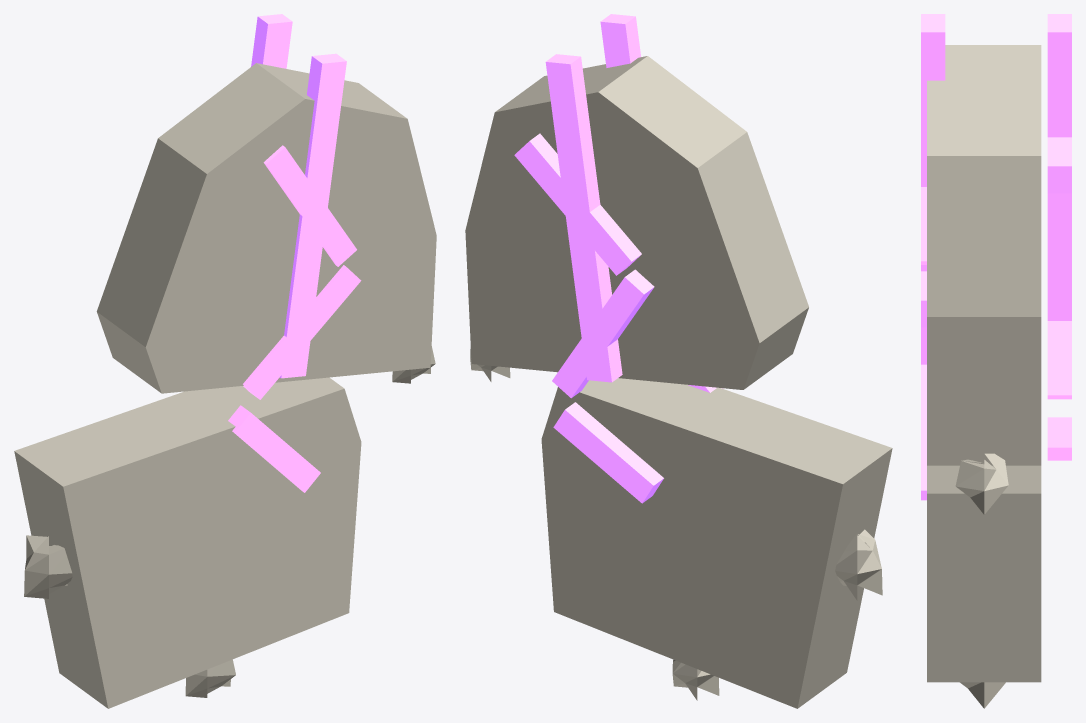
The model's file is pickups-and-collectibles-rune-stone-broken-c01bfe96__19928.glb.
The picture shows the model from 3 angles, left to right: view 1: azimuth 30°, elevation 25°; view 2: azimuth 150°, elevation 25°; view 3: azimuth 270°, elevation 25°; orthographic projection. The views are drawn at different scales.
Visible parts, largest first — view 1: body/bone, body/arcane; view 2: body/bone, body/arcane; view 3: body/bone, body/arcane.
Boxes of the visible parts, <box> form: body/bone: <box>14,63,436,708</box>; body/arcane: <box>228,14,361,492</box>; body/bone: <box>465,56,892,708</box>; body/arcane: <box>514,14,723,503</box>; body/bone: <box>927,45,1041,708</box>; body/arcane: <box>921,14,1071,500</box>.
Size of the model in its own units: 0.3604 by 0.5371 by 0.099.
